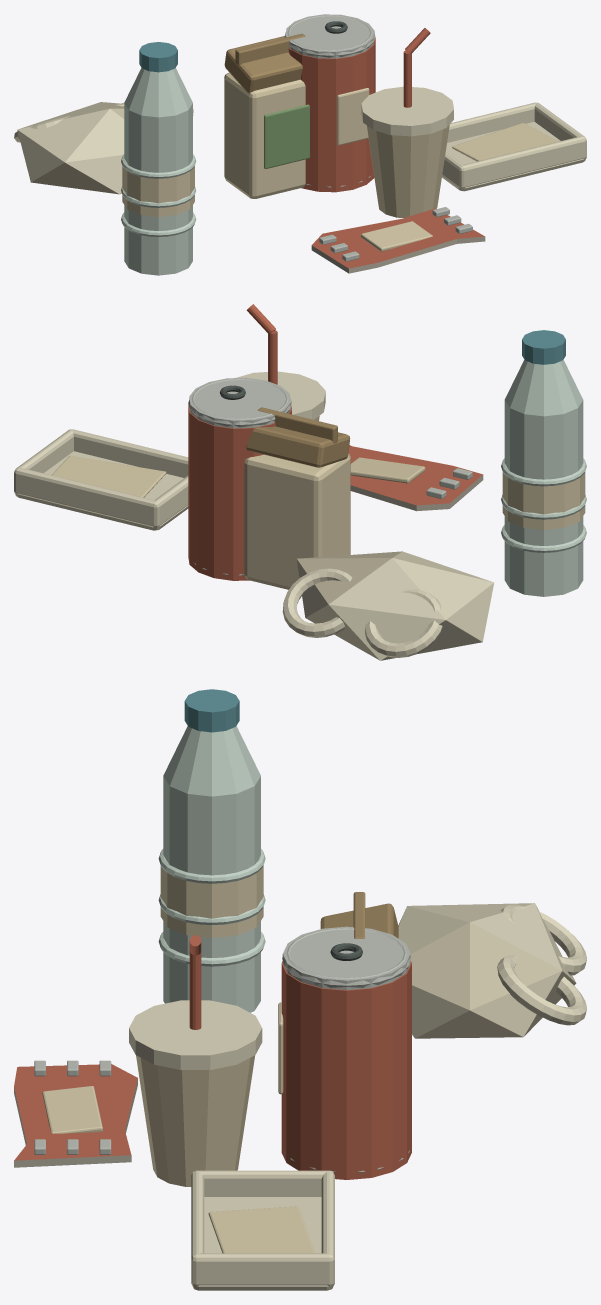
Rendered from Litter_Cluster_3.glb.
3 renders of one model, top to bottom at view 1: azimuth 30°, elevation 25°; view 2: azimuth 150°, elevation 25°; view 3: azimuth 270°, elevation 25°, orthographic. The views are drawn at different scales.
Visible parts, largest first — view 1: Litter; view 2: Litter; view 3: Litter.
Boxes of the visible parts, x1,y1,x2,y2 form: Litter: (14, 14, 586, 275); Litter: (14, 304, 586, 660); Litter: (14, 689, 586, 1290).
Size of the model in its own units: 1.16 by 0.507 by 0.8777.
